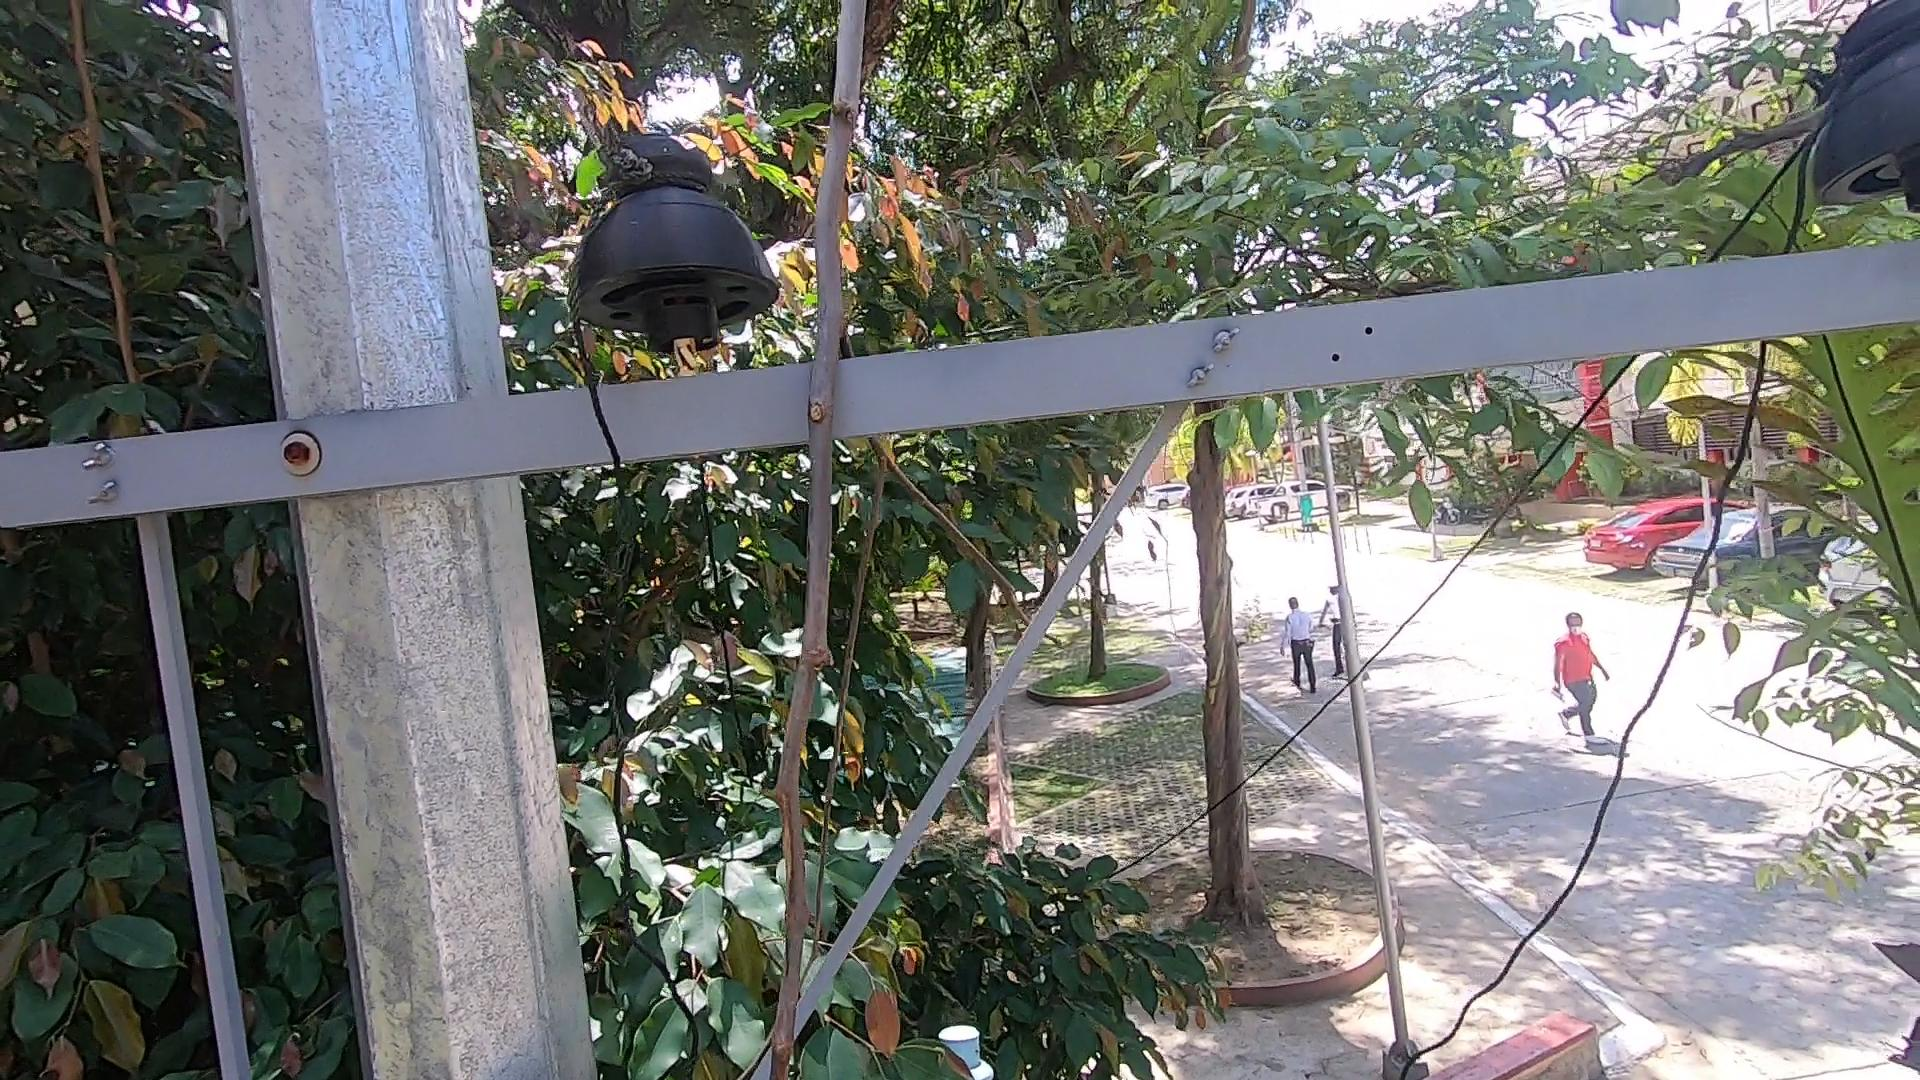branch with leaves: (738, 989, 967, 1080)
tree branch: (611, 5, 947, 1077)
